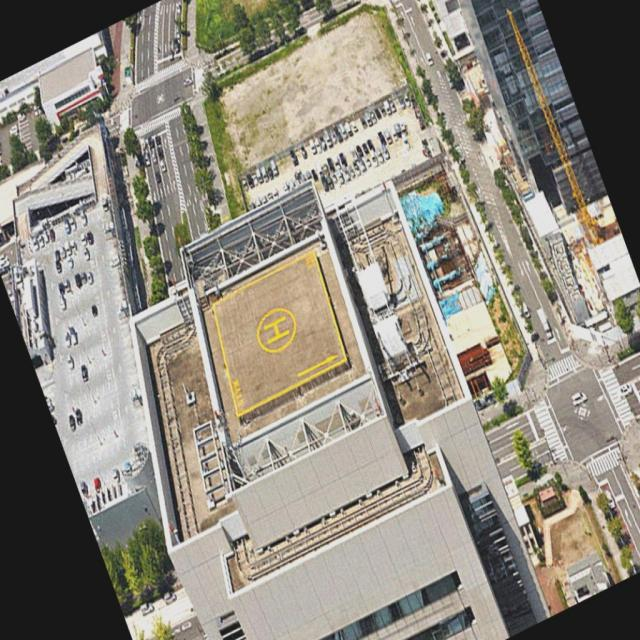helipad: (253, 305, 299, 353)
